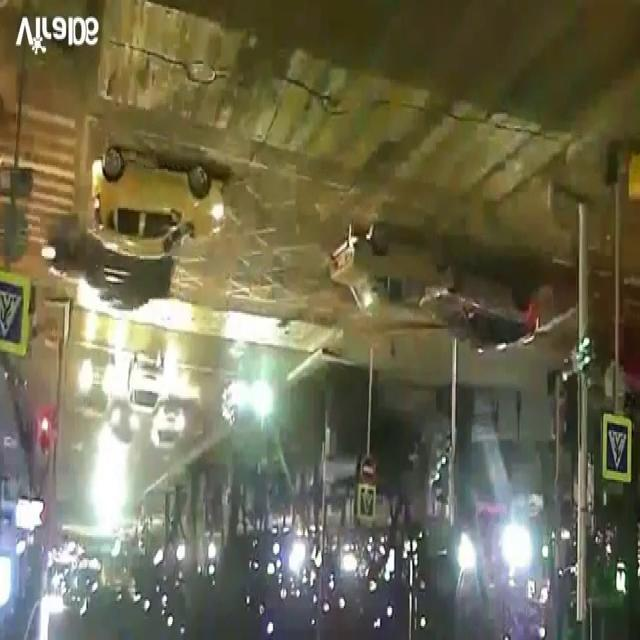moderate: (324, 216, 544, 364)
